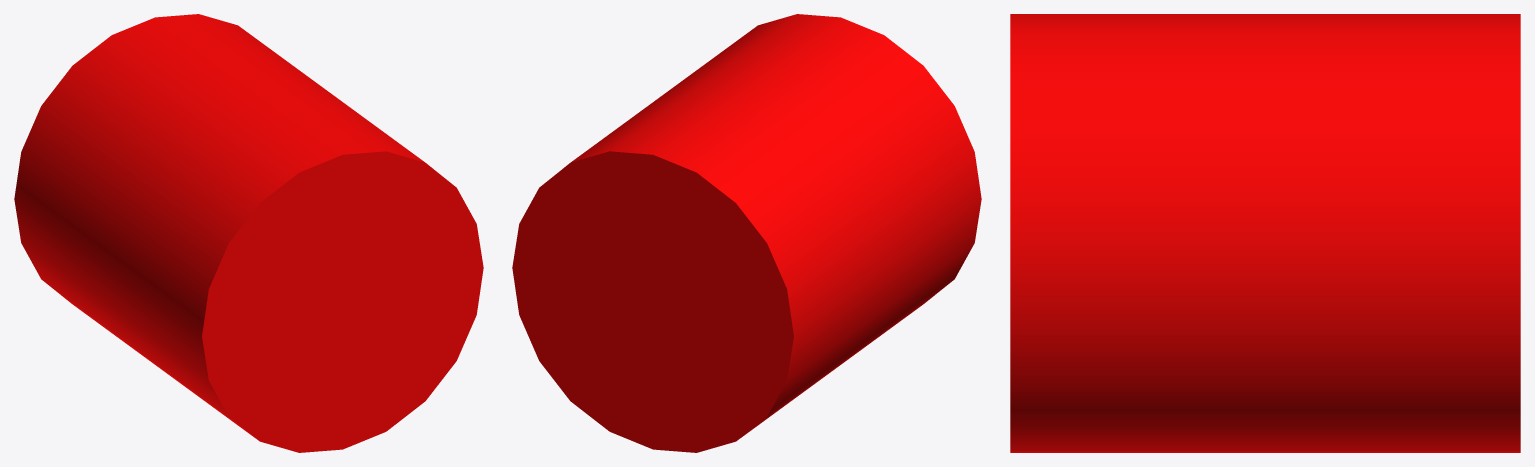
Rendered from Resaltado_Corrugador_I.obj.
The picture shows the model from 3 angles, left to right: view 1: azimuth 30°, elevation 25°; view 2: azimuth 150°, elevation 25°; view 3: azimuth 270°, elevation 25°; orthographic projection. The views are drawn at different scales.
Visible parts, largest first — view 1: pCylinder11 Marcadores1; view 2: pCylinder11 Marcadores1; view 3: pCylinder11 Marcadores1.
Part boxes in pixels (left/top/right/bottom): pCylinder11 Marcadores1: left=14, top=14, right=483, bottom=452; pCylinder11 Marcadores1: left=512, top=14, right=981, bottom=452; pCylinder11 Marcadores1: left=1010, top=14, right=1520, bottom=452.
Size of the model in its own units: 0.0274 by 0.0274 by 0.0316.
